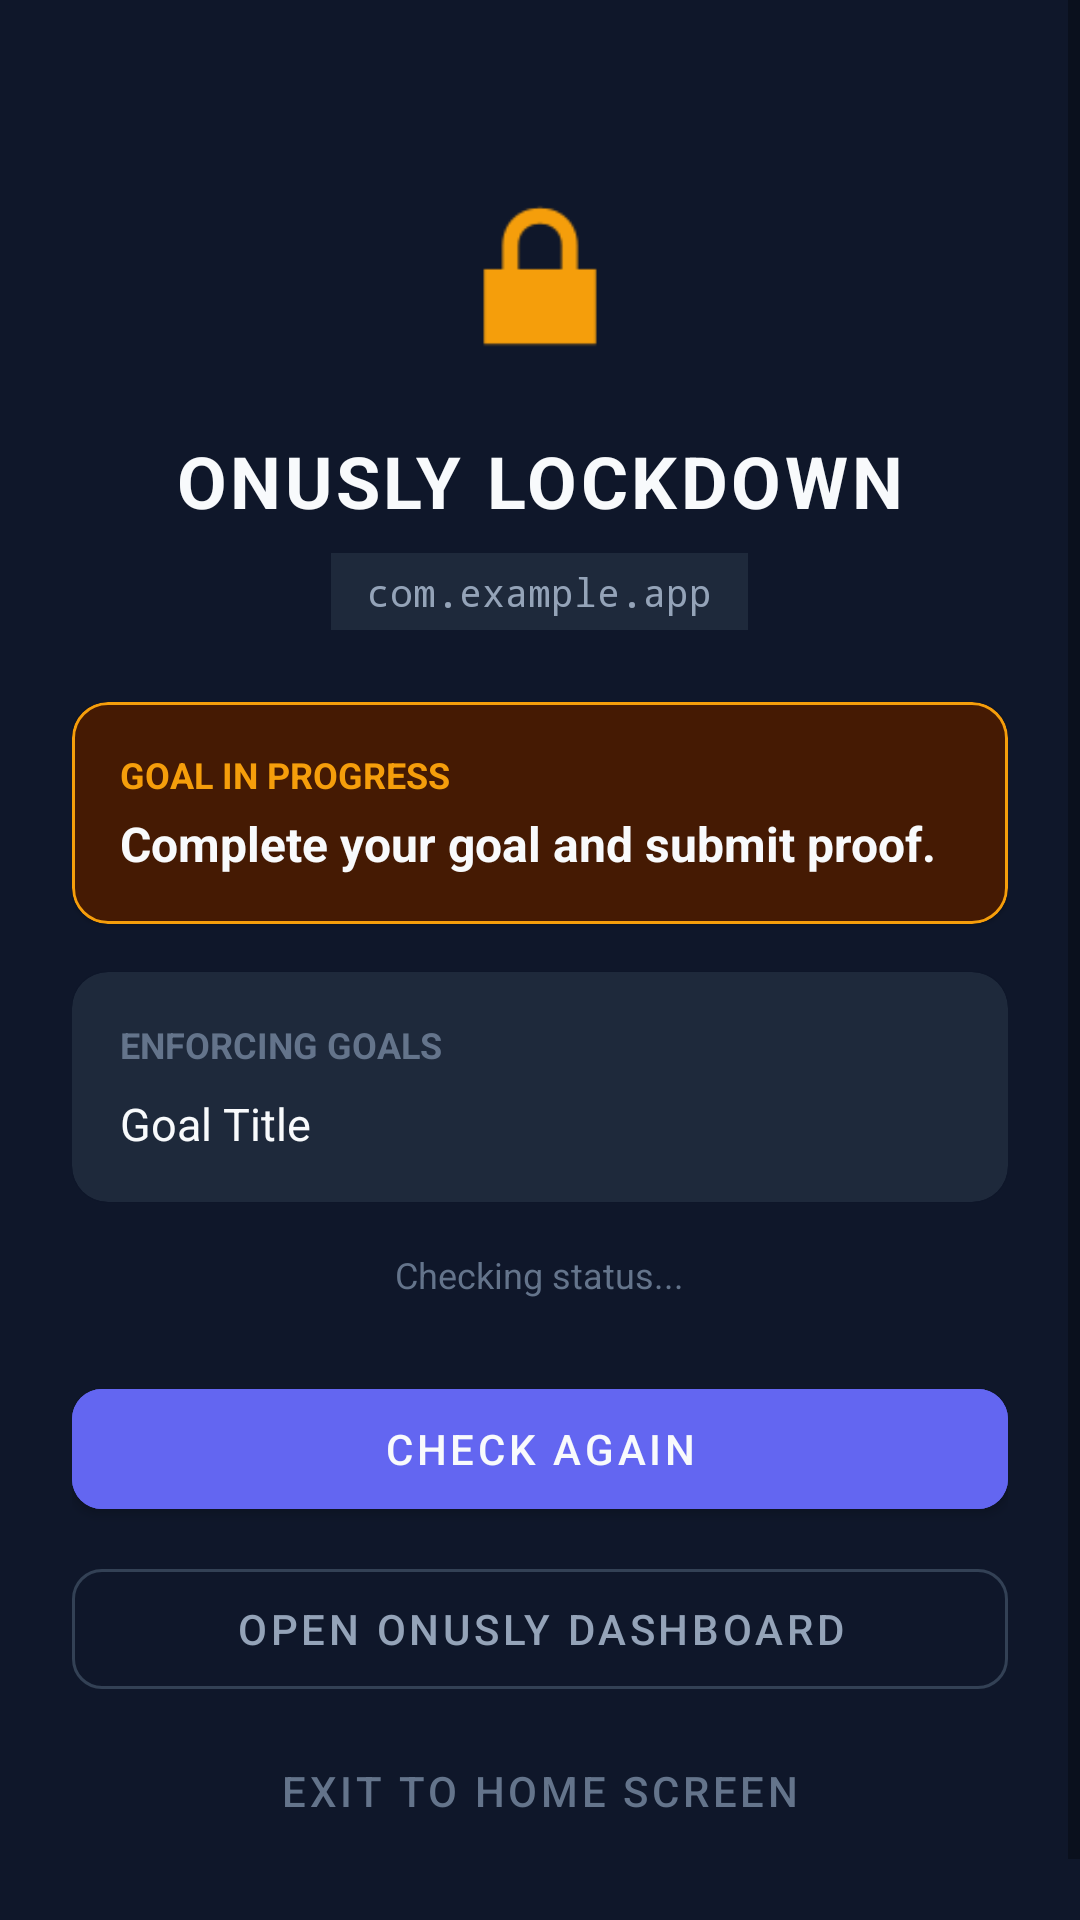

Locate icon controls on the screen. Image size 1080px×1920px, boxes as (x1, y1, x2, y2).
Lock Icon: (483, 206, 597, 346)
